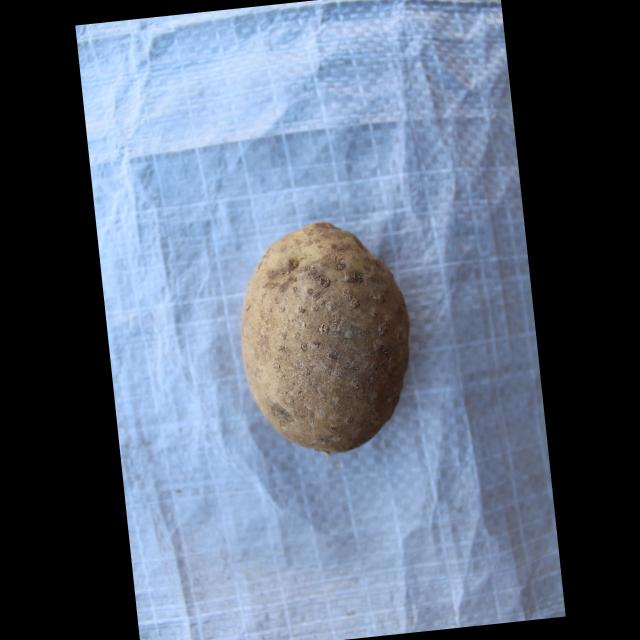Diseased-fungal potato: (223, 208, 427, 461)
